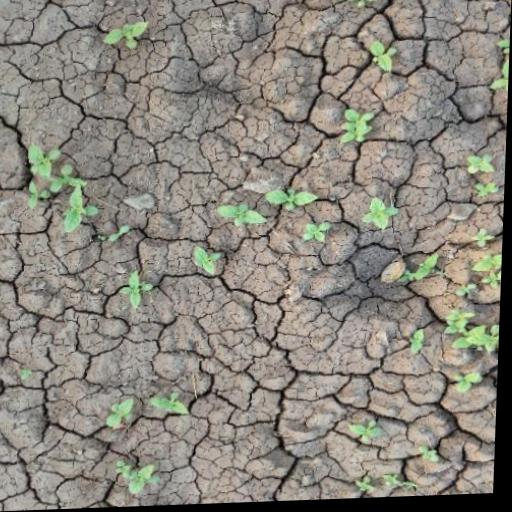crop: (14, 140, 110, 237), (116, 375, 191, 451), (445, 302, 503, 382), (94, 6, 159, 71), (446, 144, 507, 206), (116, 450, 177, 508), (353, 28, 411, 85), (334, 104, 391, 162), (265, 176, 320, 232), (116, 270, 164, 318), (344, 411, 389, 456), (185, 241, 229, 285), (477, 241, 505, 300)
